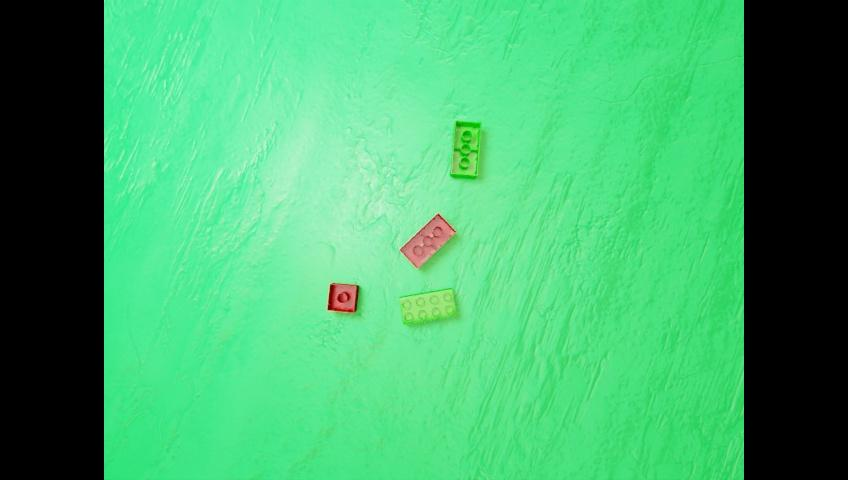2x2_red: (326, 282, 358, 312)
4x2_green: (398, 287, 456, 324), (451, 120, 481, 179)
4x2_red: (400, 213, 456, 269)
